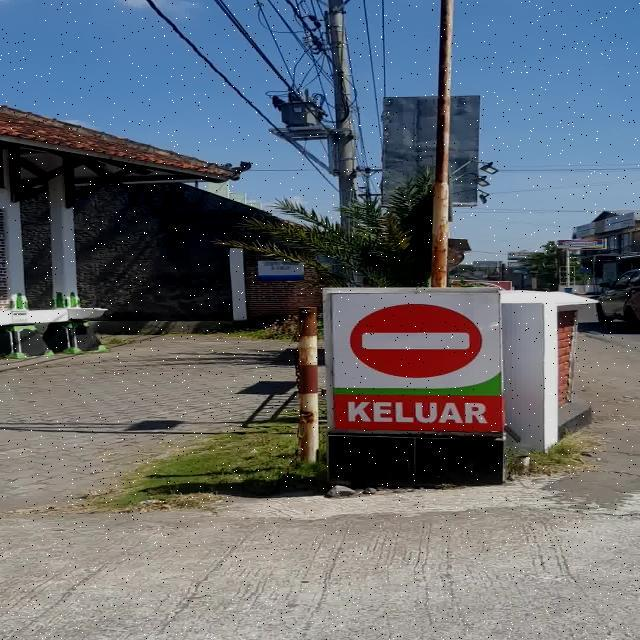Dilarang Masuk: (350, 300, 482, 376)
